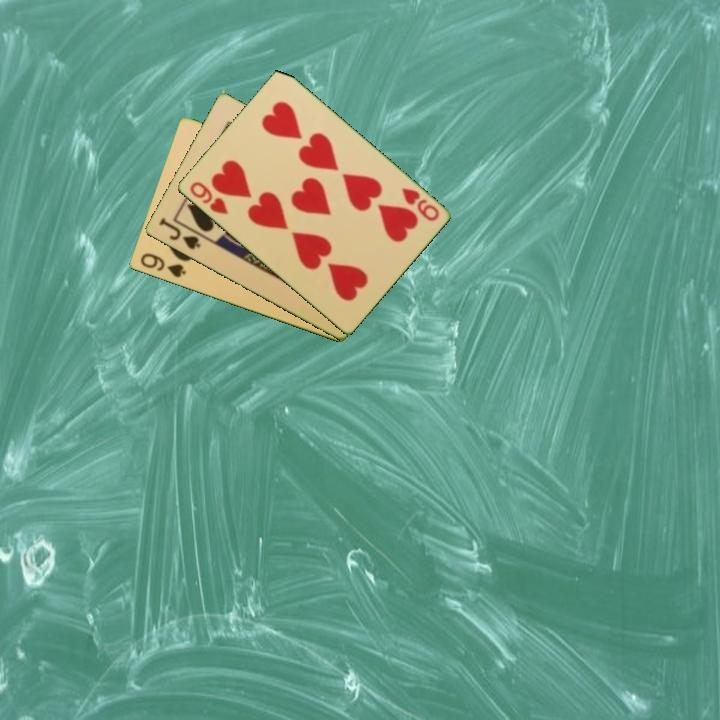9h: (186, 178, 231, 218), (397, 184, 442, 224)
9s: (136, 250, 189, 281)
Js: (155, 214, 203, 253)
